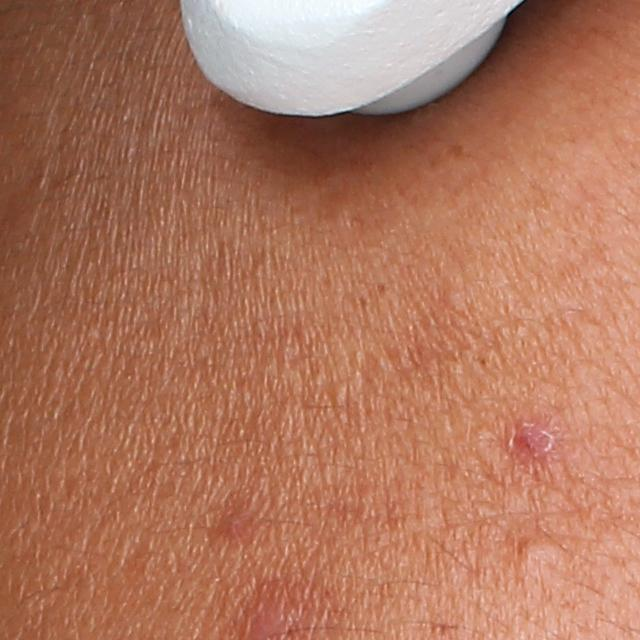comedo: (516, 536, 565, 568), (440, 289, 465, 310)
papule: (508, 424, 555, 464)
